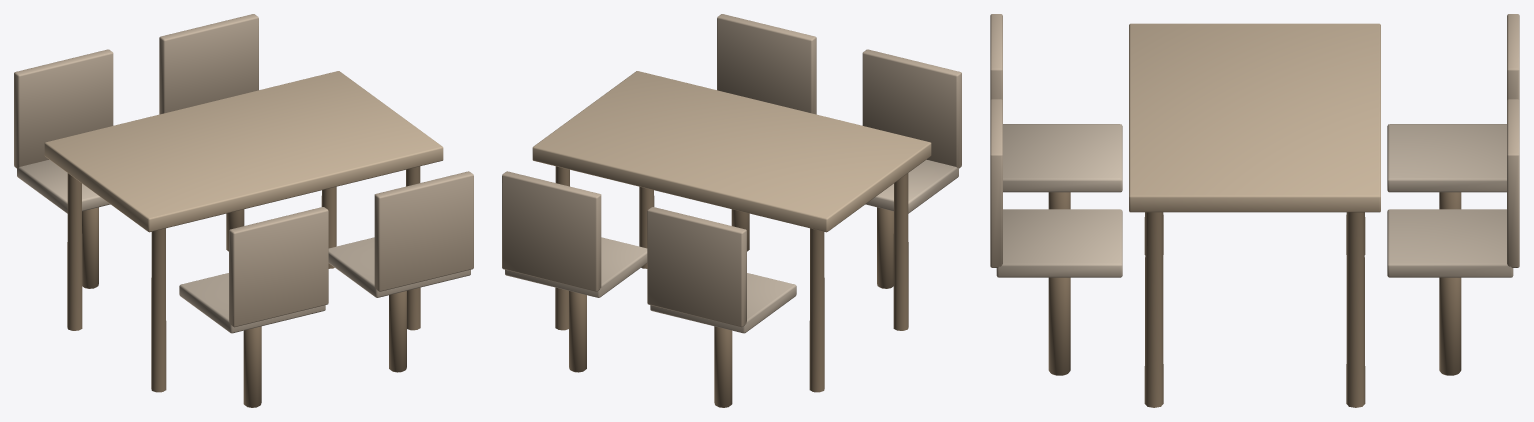
The model's file is dining_table.glb.
The picture shows the model from 3 angles, left to right: view 1: azimuth 30°, elevation 25°; view 2: azimuth 150°, elevation 25°; view 3: azimuth 270°, elevation 25°; orthographic projection. The views are drawn at different scales.
Parts seen in each view (by area): view 1: dining_table; view 2: dining_table; view 3: dining_table.
Part boxes in pixels (x1,y1,x2,y2): dining_table: [14, 14, 473, 407]; dining_table: [502, 14, 961, 407]; dining_table: [990, 14, 1519, 407].
Bounding box in the file's own units: 1.3 × 0.86 × 1.68.
